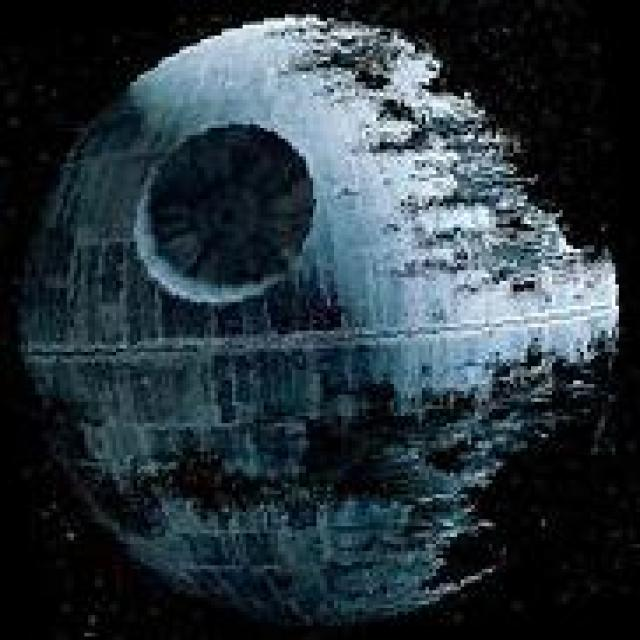Death Star: (29, 14, 626, 615)
